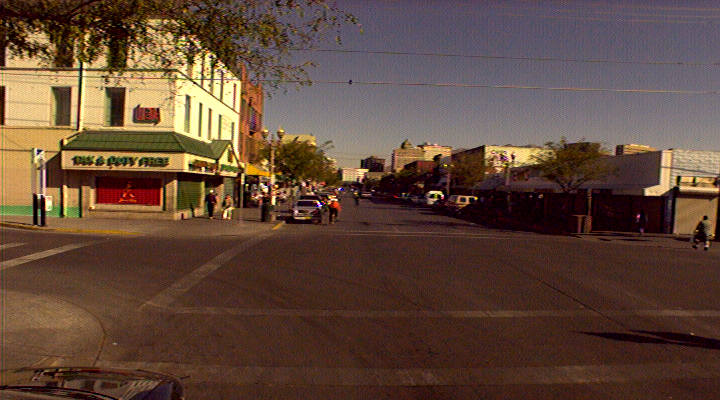Ramp: (2, 277, 106, 367), (124, 217, 278, 241), (583, 229, 702, 249)
